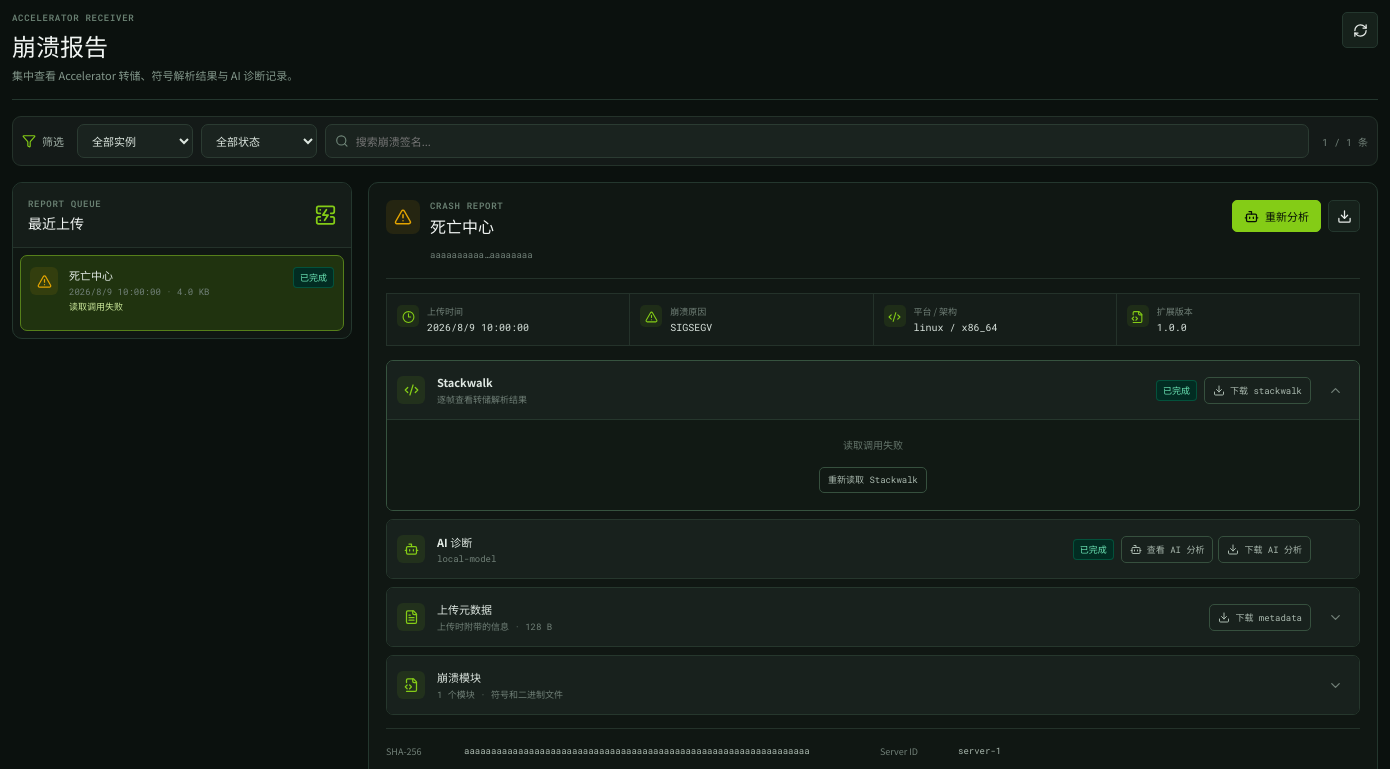
CrashReportsPage › does not cache a failed Stackwalk preview and allows retrying the read
The width and height of the screenshot is (1390, 769).
expect the text "读取调用失败" below "SIGSEGV" is shown: met, box [843,437,903,452]
Click the button "重新读取 Stackwalk": x=873, y=480 [819,467,927,493]
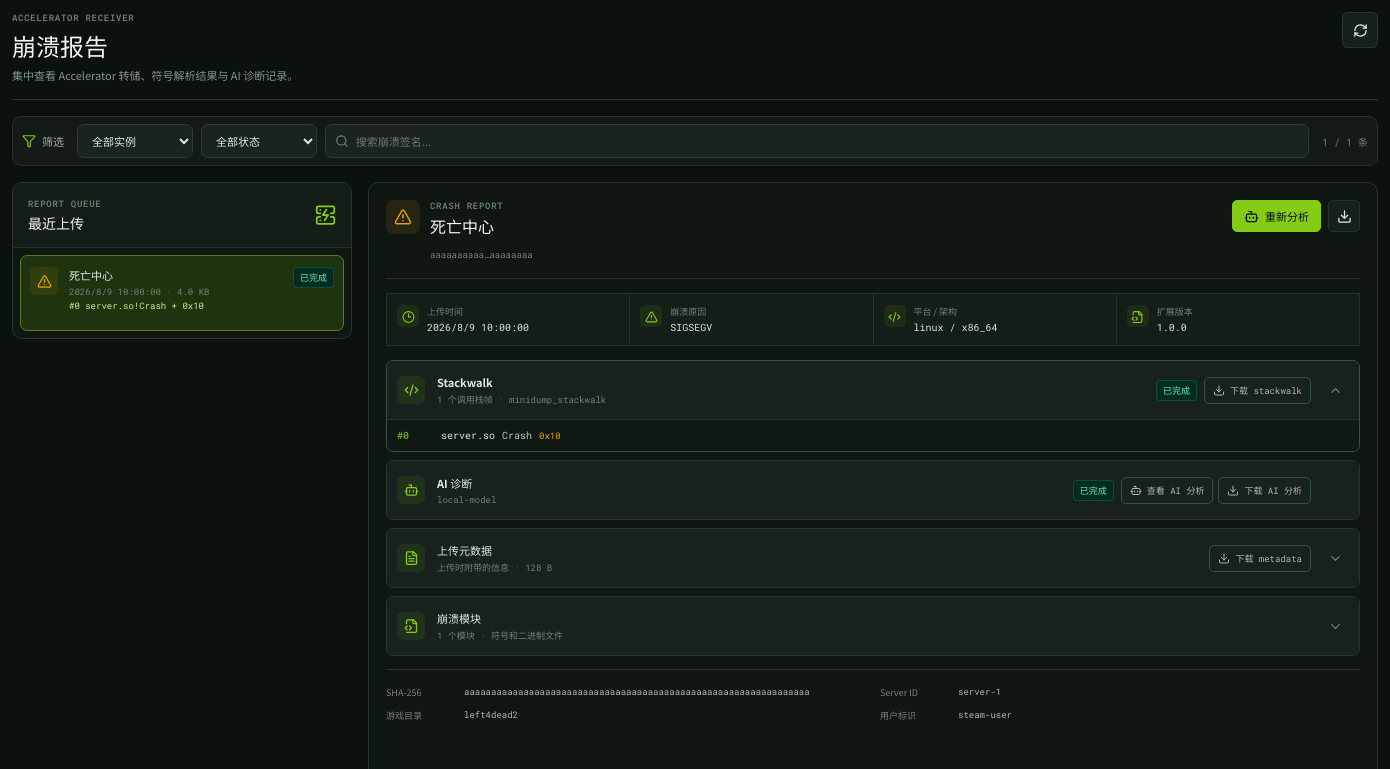
expect the text "Crash" is shown: met, box [502,429,532,442]
